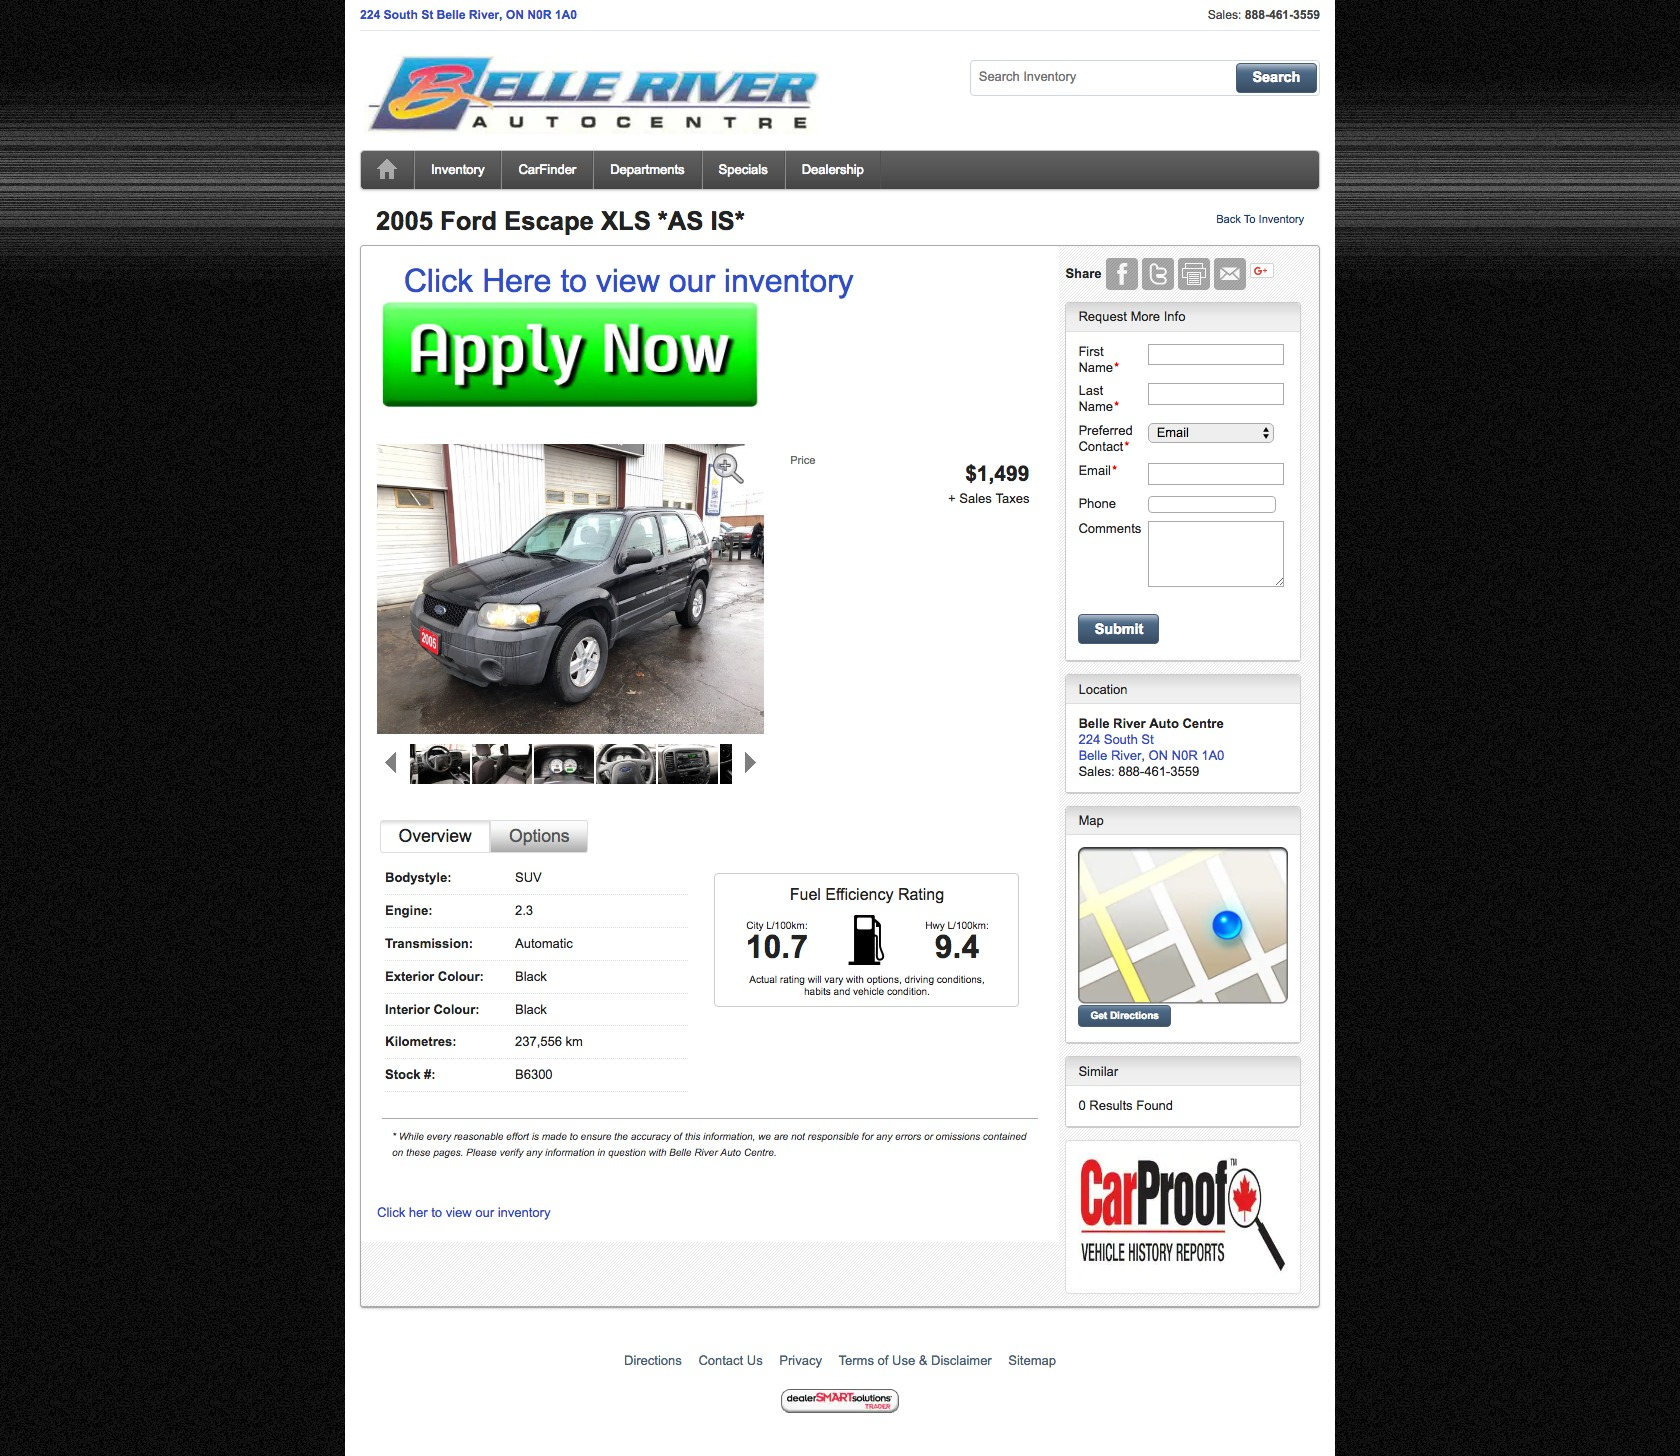car: (746, 753, 756, 774)
